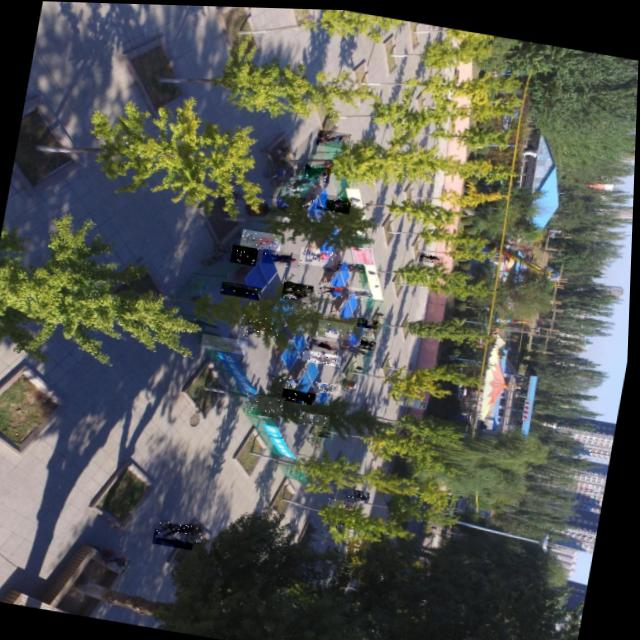Person: (240, 311, 290, 340), (160, 518, 207, 543), (201, 332, 250, 354), (240, 227, 283, 250), (155, 528, 198, 549), (246, 392, 287, 413), (299, 245, 337, 267), (262, 247, 303, 267), (318, 317, 356, 338), (221, 280, 263, 299), (277, 191, 315, 211), (315, 127, 351, 148), (317, 191, 353, 212), (282, 279, 315, 301), (303, 348, 344, 365), (324, 520, 358, 539), (231, 243, 260, 265), (293, 173, 323, 193), (283, 386, 318, 403), (307, 335, 341, 352), (301, 409, 332, 426), (303, 163, 332, 181), (345, 485, 373, 502), (318, 282, 351, 296), (269, 373, 303, 386), (315, 379, 344, 394), (347, 284, 374, 299), (338, 259, 367, 272), (330, 496, 357, 509), (419, 250, 445, 262), (340, 517, 365, 529), (358, 315, 380, 328), (351, 343, 373, 354), (361, 337, 377, 349)
